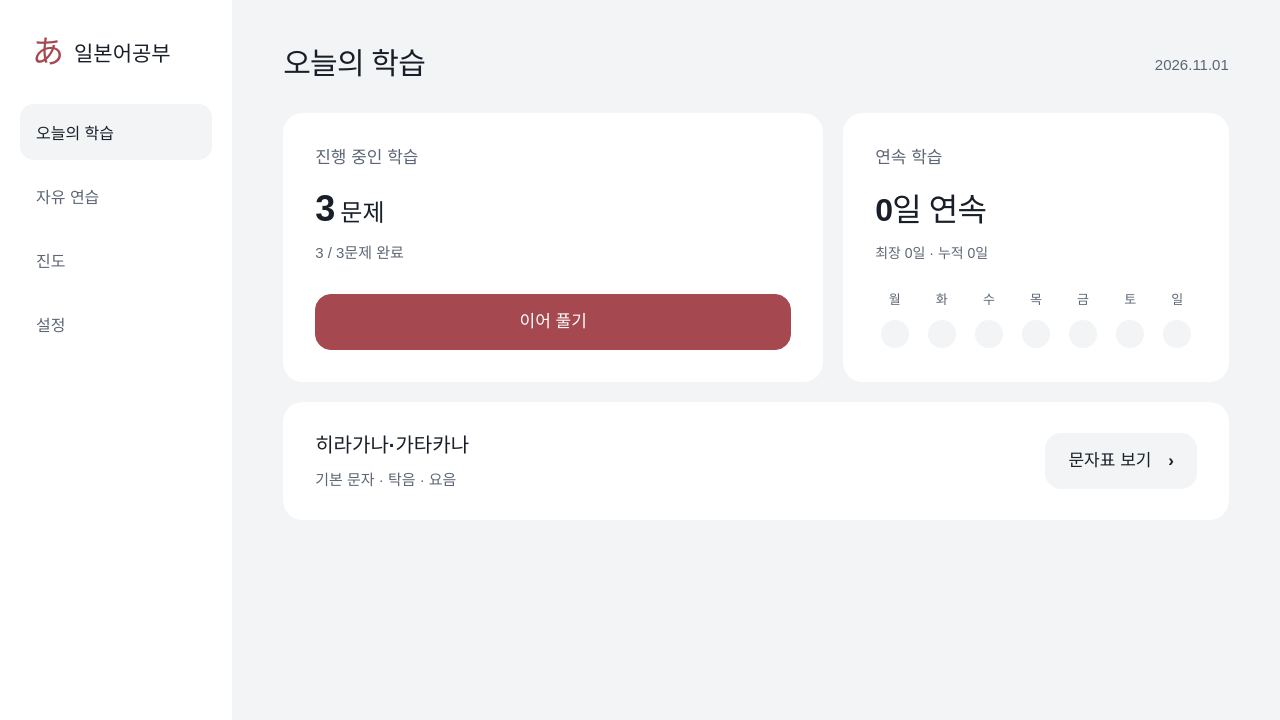
Test: app navigation › offers another kana batch after finishing free practice
Click the button "이어 풀기": (553, 322) [315,294,791,350]
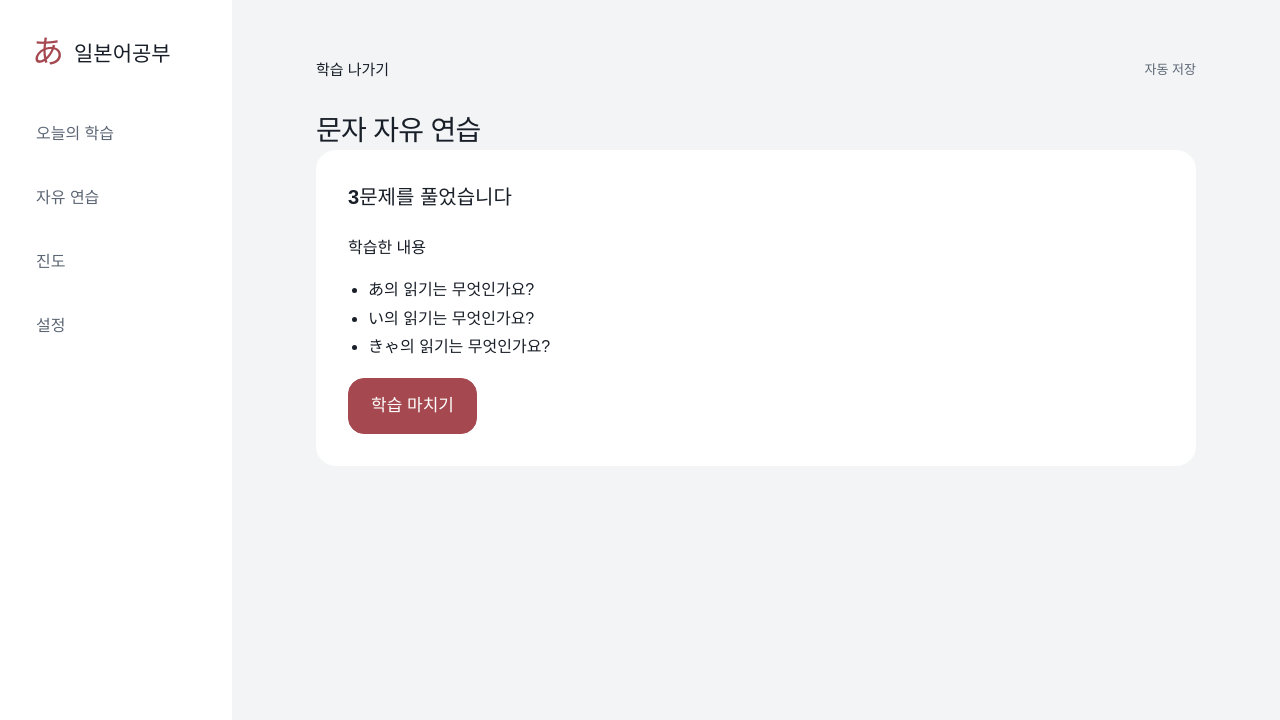
Click the button "학습 마치기": (412, 406) [348,378,477,434]
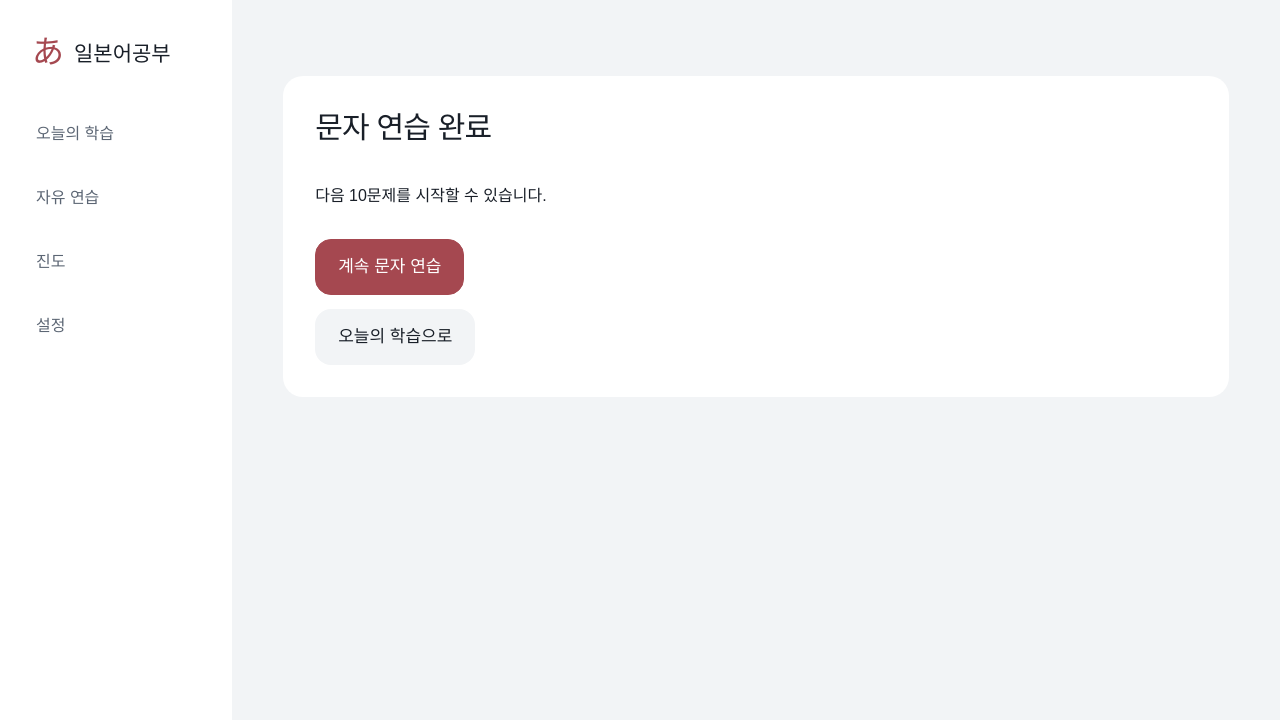
Click the button "계속 문자 연습": (390, 267) [315,239,464,295]
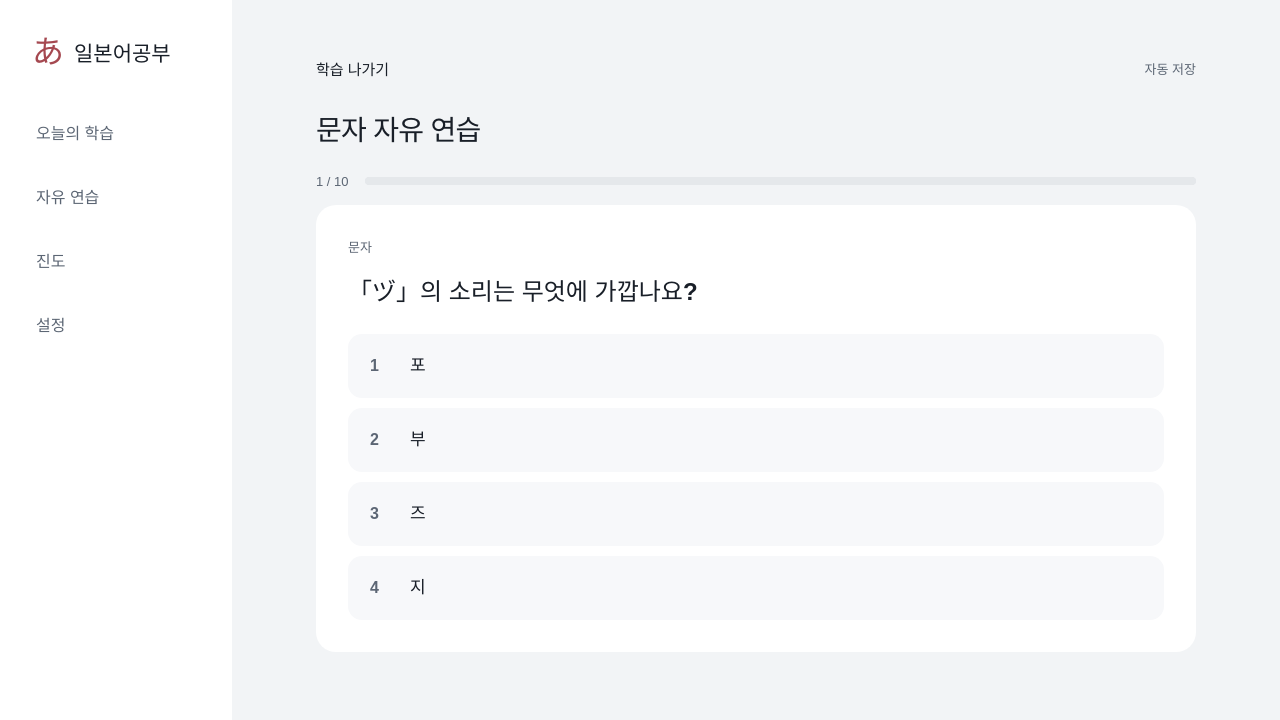
Expected: the heading "문자 자유 연습" is shown, [316,115,480,146]
